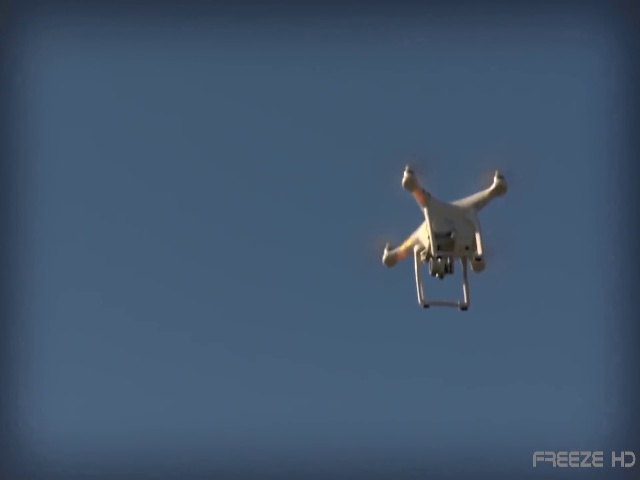drone: (369, 152, 515, 319)
